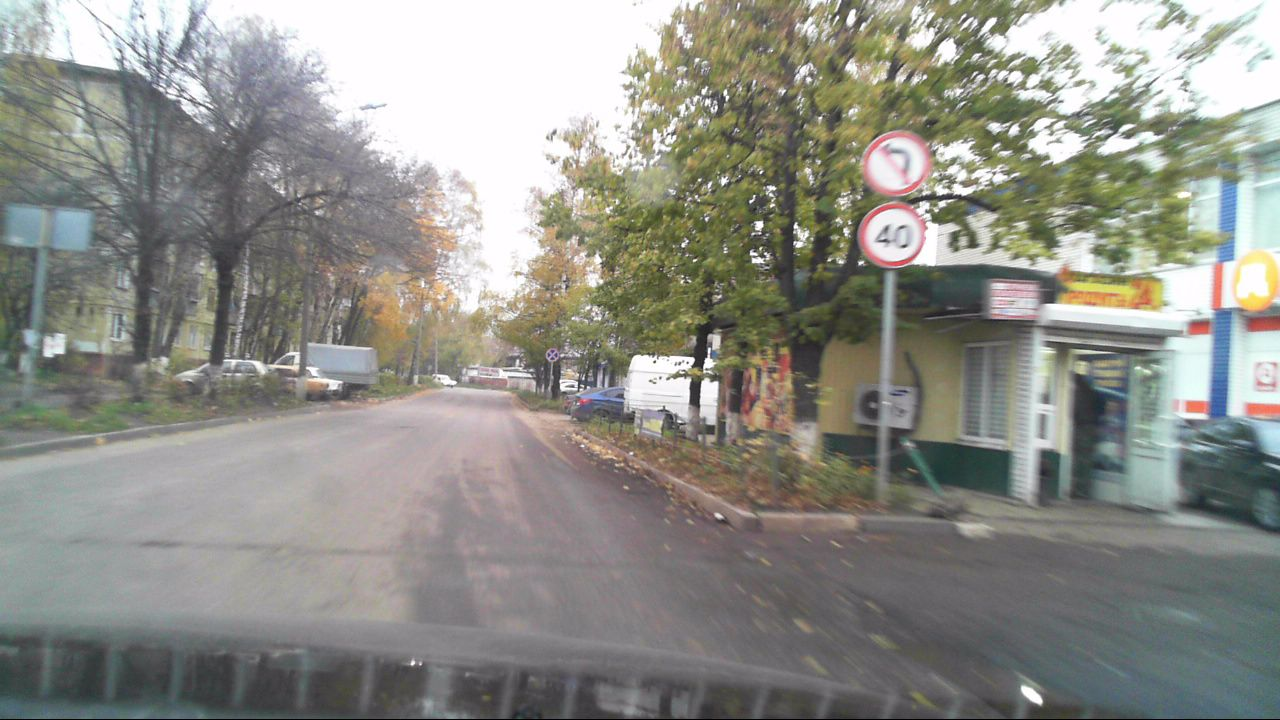speed_warning_40: (856, 201, 926, 267)
